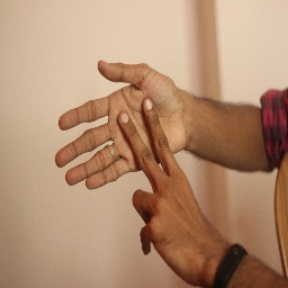N: (52, 55, 200, 236)
